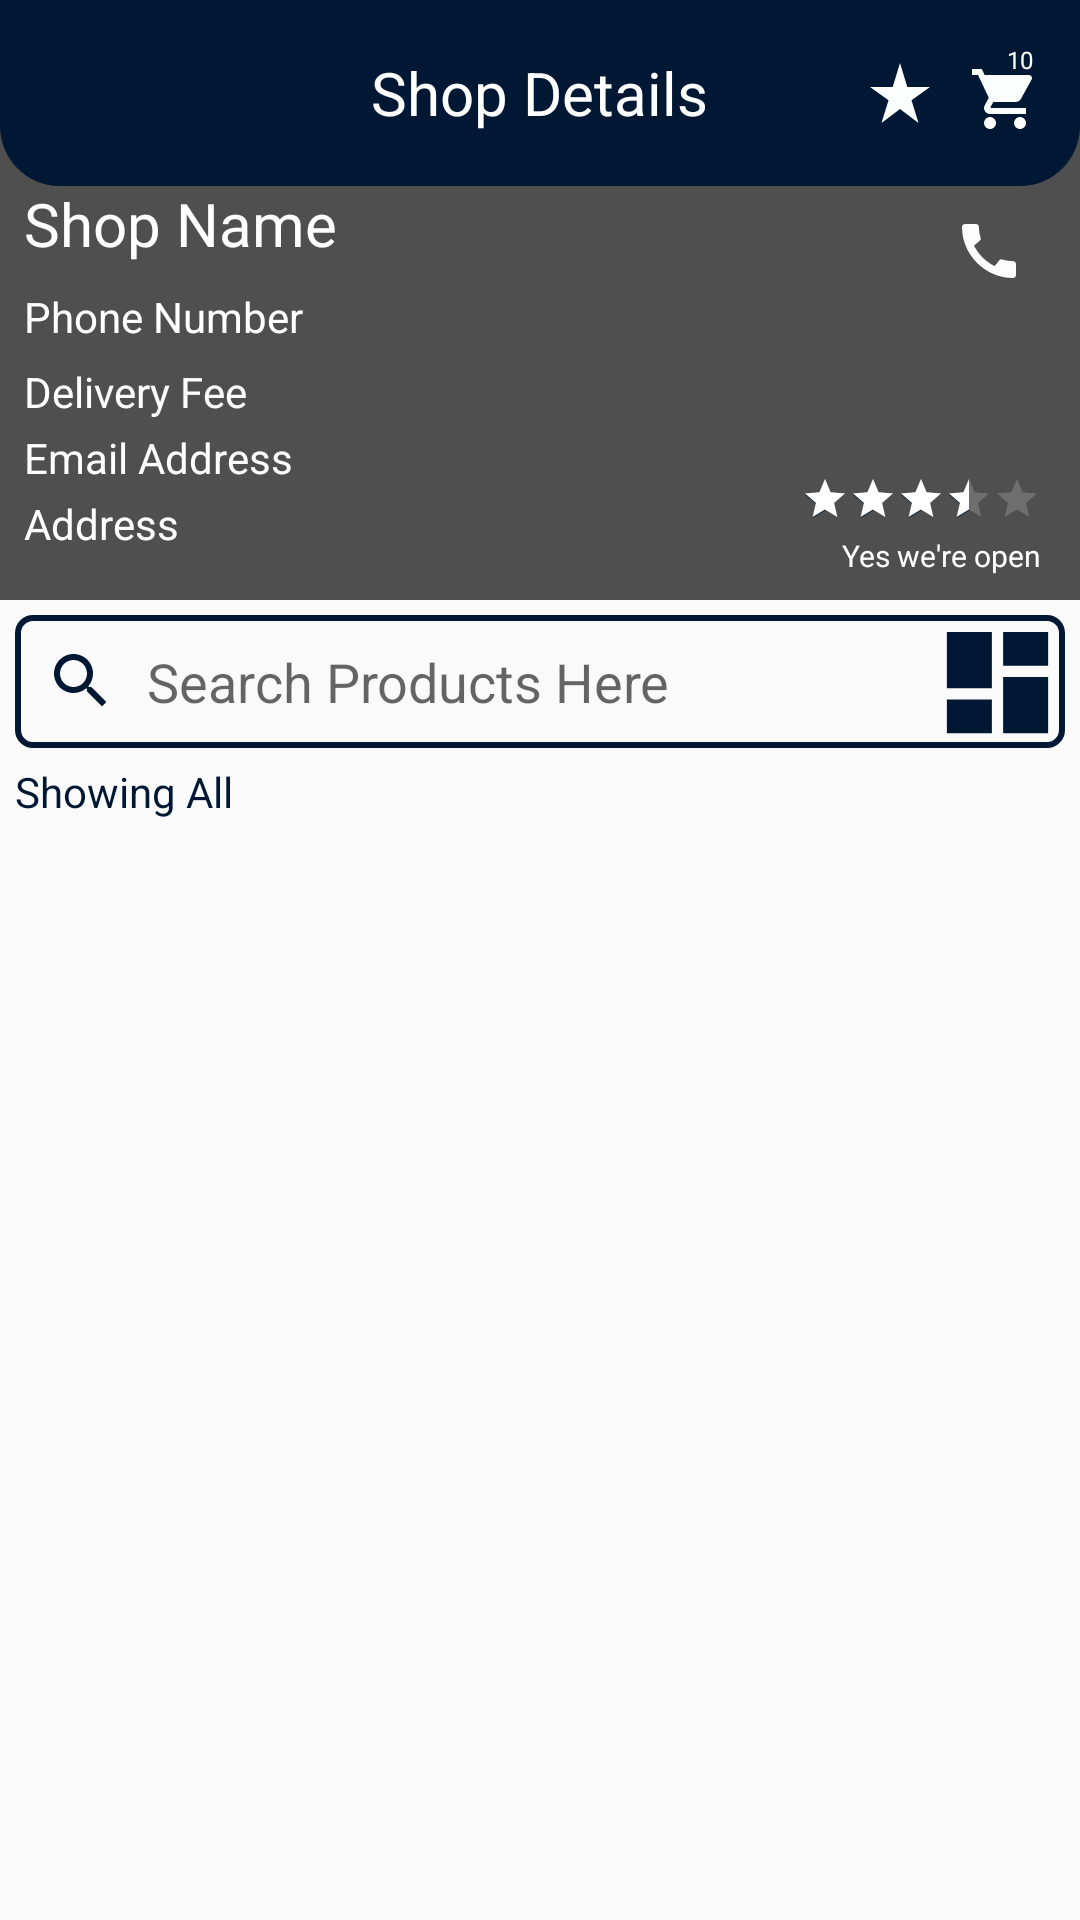

Icon click points for this 1080 x 1920 phone screenshot, format (x=x, y=y):
add tocart: (x=1002, y=91)
call: (x=989, y=251)
star rate: (x=900, y=93)
